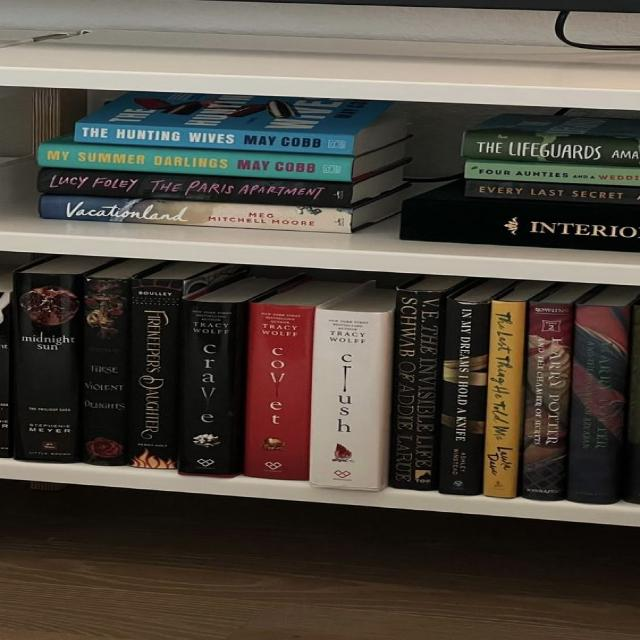book: (308, 309, 389, 491), (12, 271, 79, 462), (243, 303, 314, 480), (565, 303, 628, 502), (39, 143, 351, 183), (38, 170, 352, 208), (38, 196, 352, 233), (388, 289, 444, 491), (178, 300, 240, 478), (127, 278, 184, 469), (519, 301, 572, 501), (439, 298, 488, 495), (78, 276, 129, 465), (76, 123, 355, 155), (483, 301, 526, 498), (460, 131, 640, 167), (465, 181, 640, 205), (465, 163, 640, 185)
